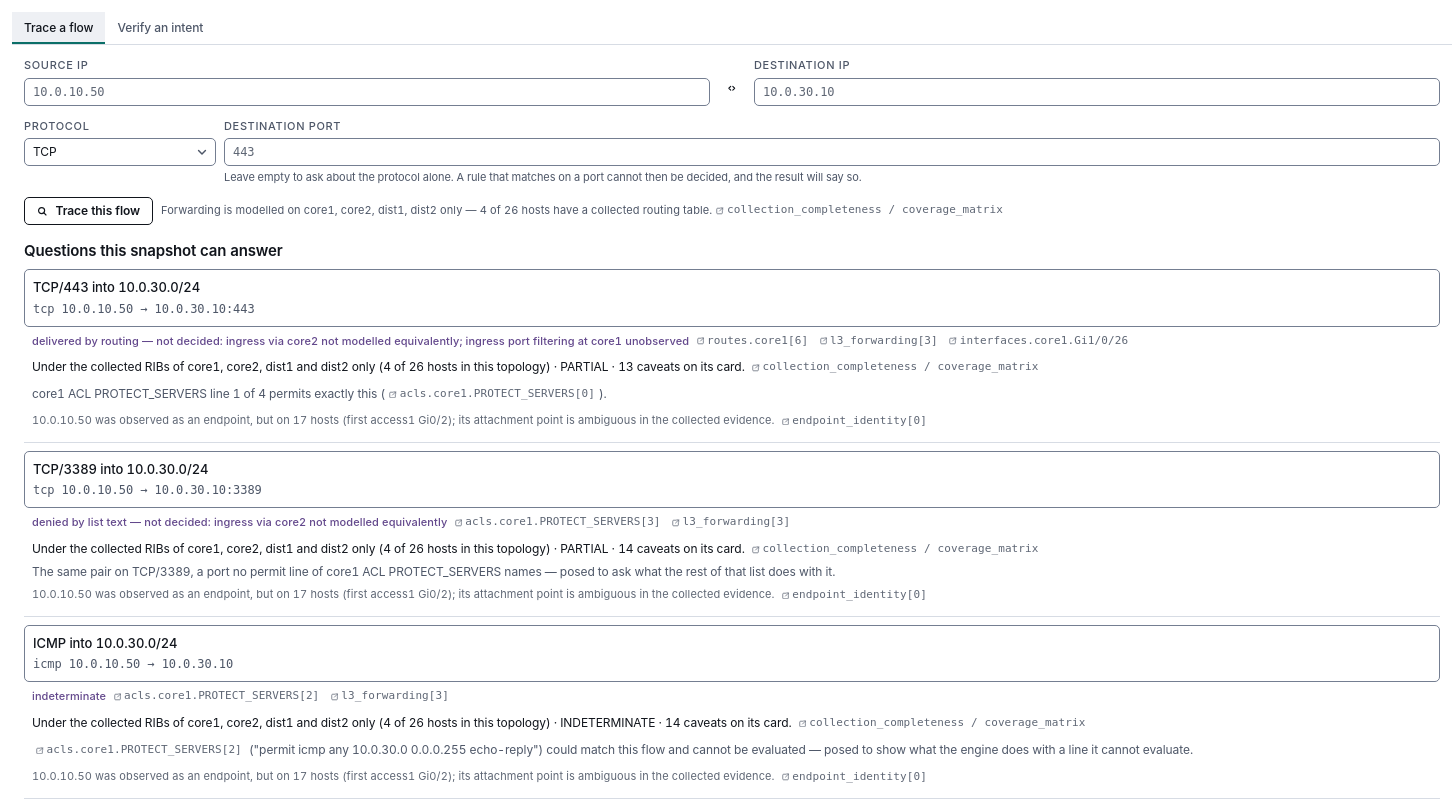
Test: PathTrace — the chunked intent search › cancels mid-flight from a partially advanced bar, and keeps the partial count
Click the tab "Verify an intent" at (160, 28), box [105, 12, 215, 44]
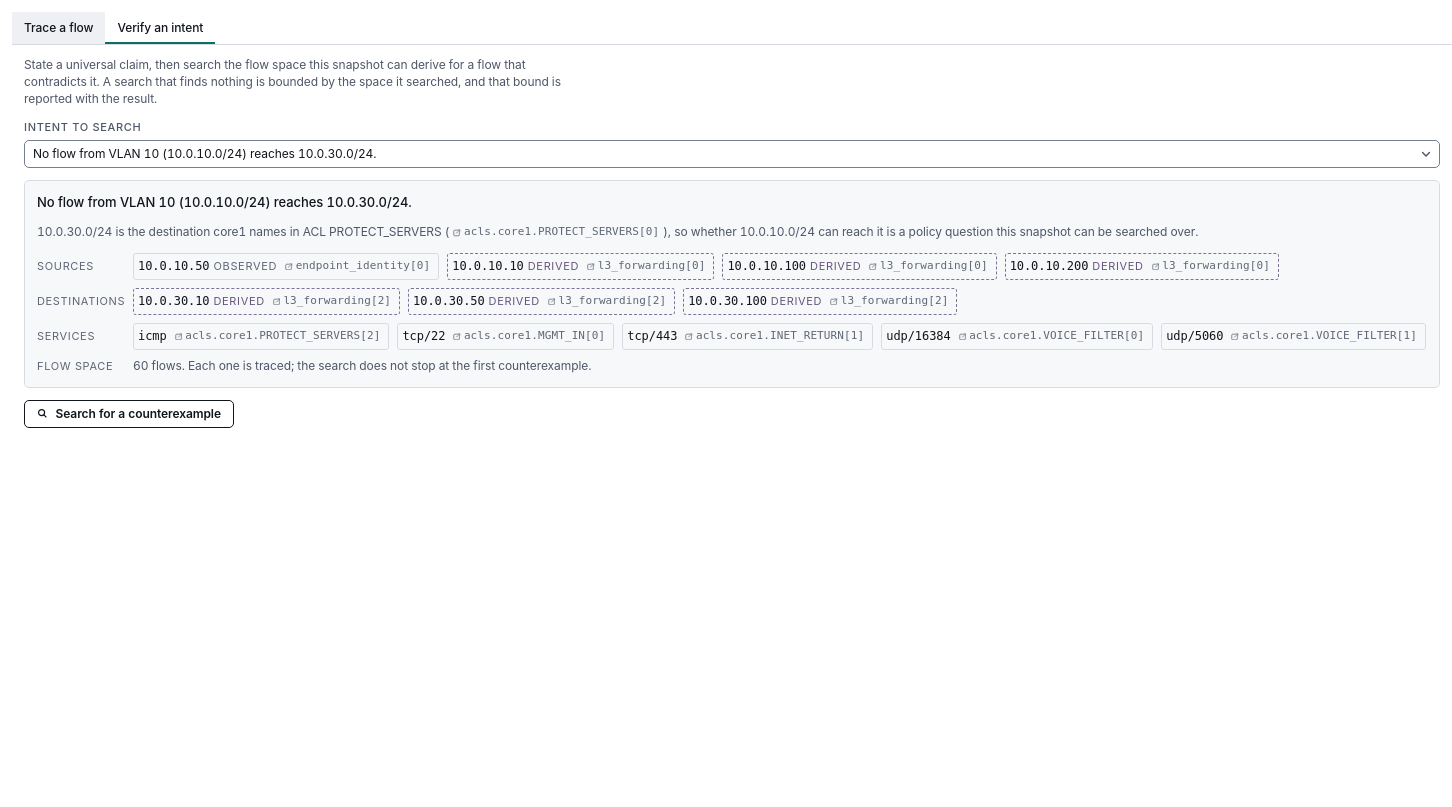
Click the button "Search for a counterexample" at (129, 414), box [24, 400, 234, 428]
Wait 2 ms
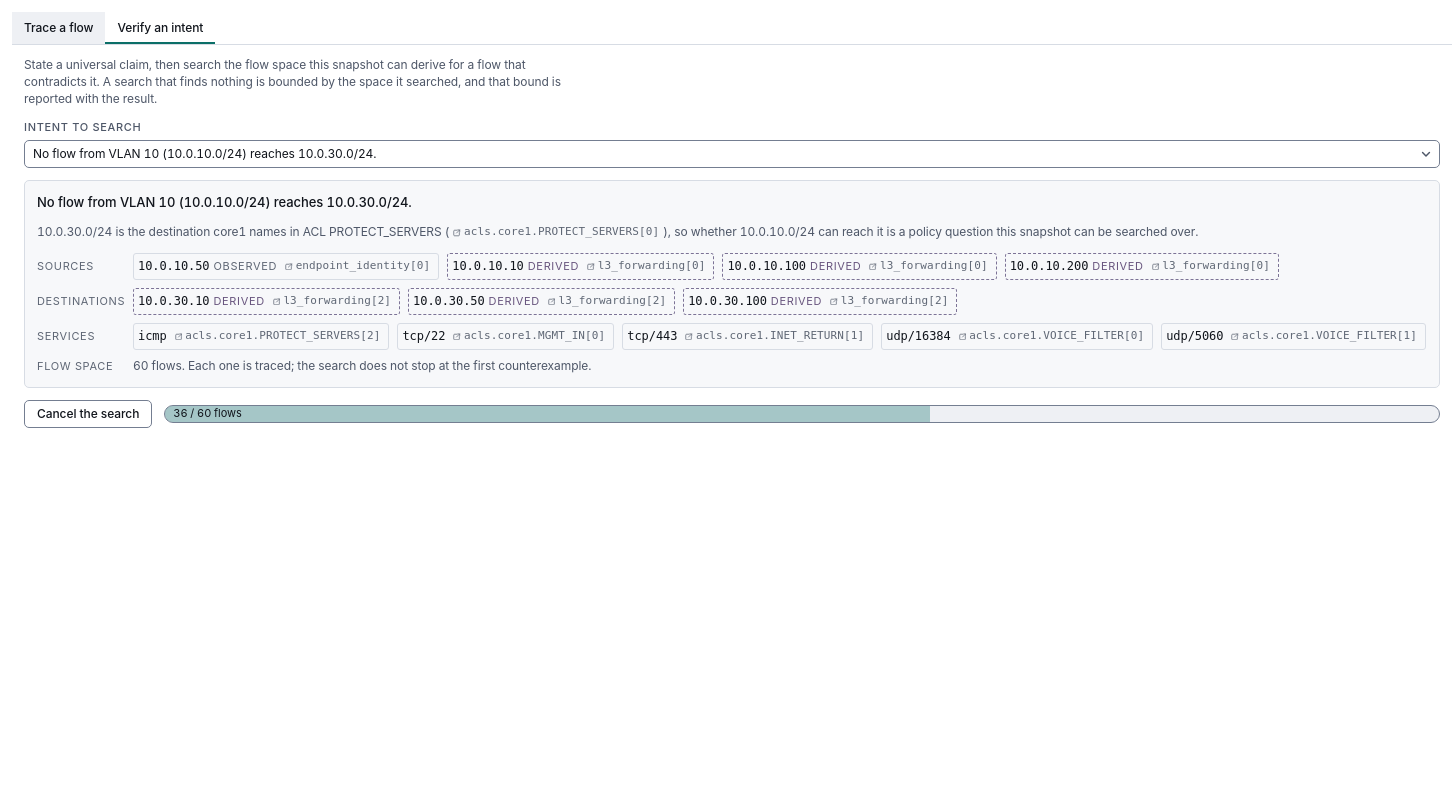
Click the button "Cancel the search" at (88, 414), box [24, 400, 152, 428]
Wait 5000 ms
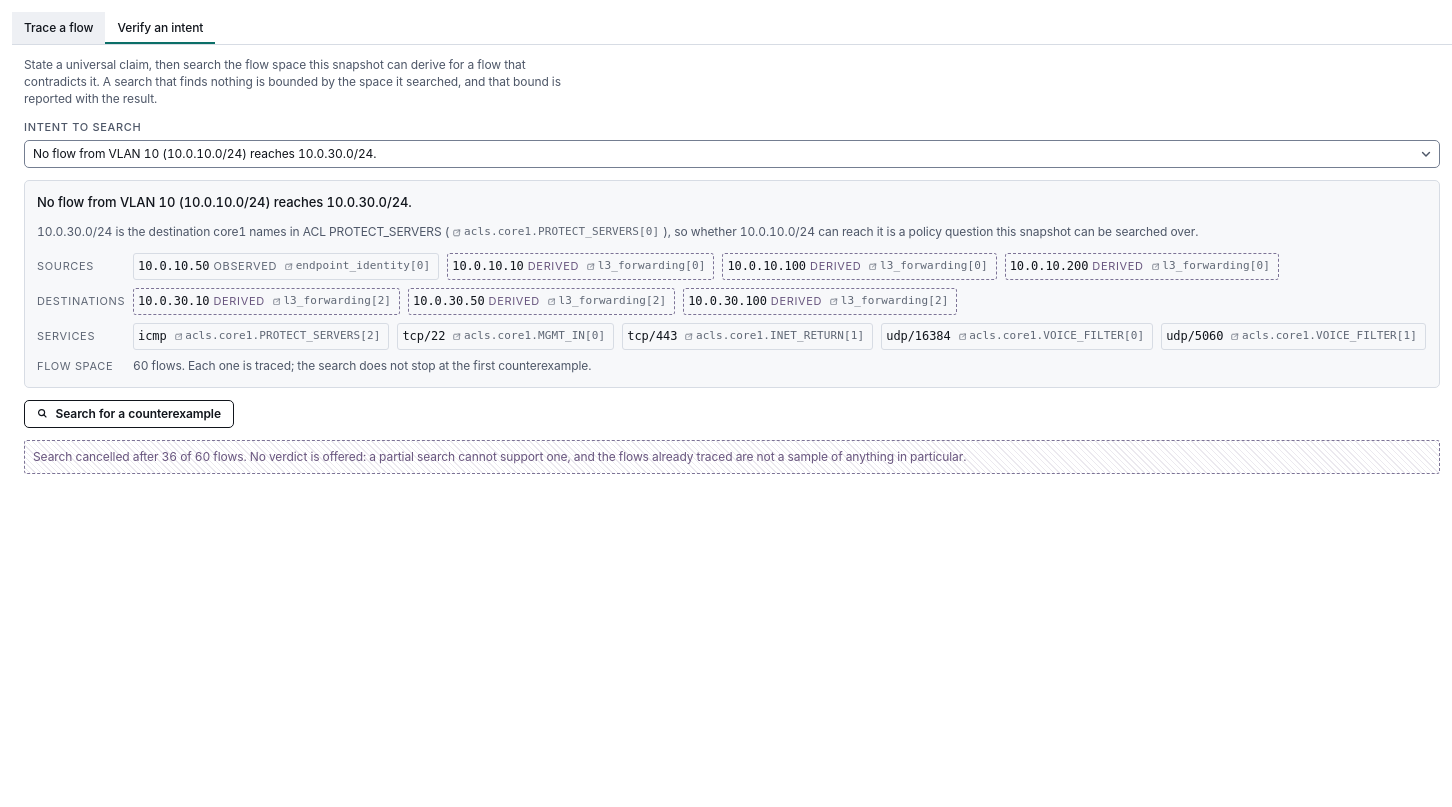
expect the text "36" is shown: met, box [33, 449, 966, 464]
expect the text "No verdict is offered" is shown: met, box [33, 449, 966, 464]
